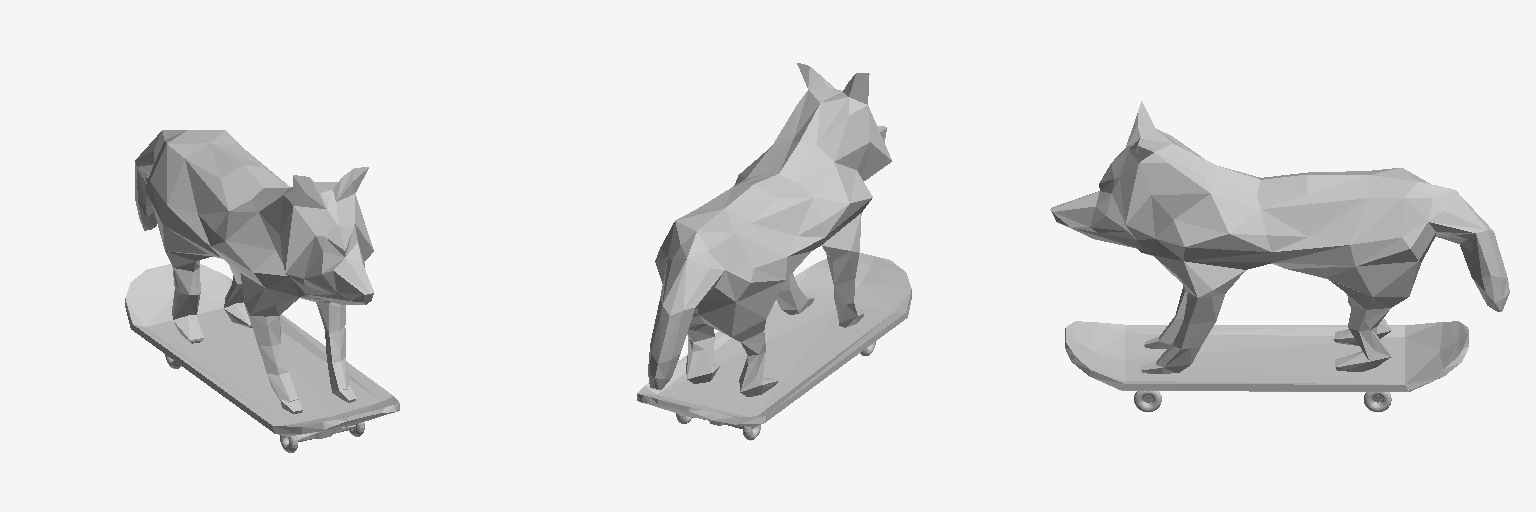
Rendered from Fuchs24.obj.
3 renders of one model, left to right at view 1: azimuth 30°, elevation 25°; view 2: azimuth 150°, elevation 25°; view 3: azimuth 270°, elevation 25°, orthographic.
Bounding box in the file's own units: 3.58 × 7.86 × 11.72.